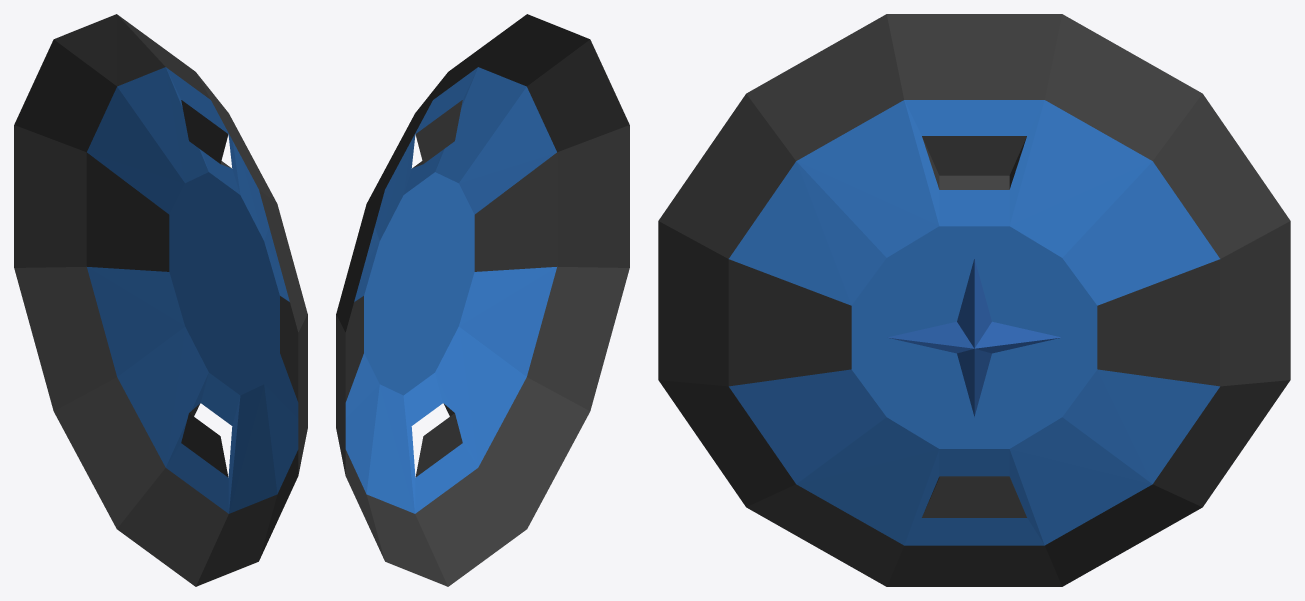
Rendered from shield.FBX.
3 renders of one model, left to right at view 1: azimuth 30°, elevation 25°; view 2: azimuth 150°, elevation 25°; view 3: azimuth 270°, elevation 25°, orthographic. The views are drawn at different scales.
Visible parts, largest first — view 1: VIFS001, VIFS002; view 2: VIFS001, VIFS002; view 3: VIFS001, VIFS002, VIFS003.
Boxes of the visible parts, x1,y1,x2,y2 form: VIFS001: (14, 14, 307, 586); VIFS002: (87, 67, 298, 513); VIFS001: (336, 14, 629, 586); VIFS002: (345, 67, 556, 513); VIFS001: (658, 14, 1290, 586); VIFS002: (729, 100, 1219, 545); VIFS003: (887, 258, 1061, 416).
Size of the model in its own units: 0.26 by 1.44 by 1.44.
